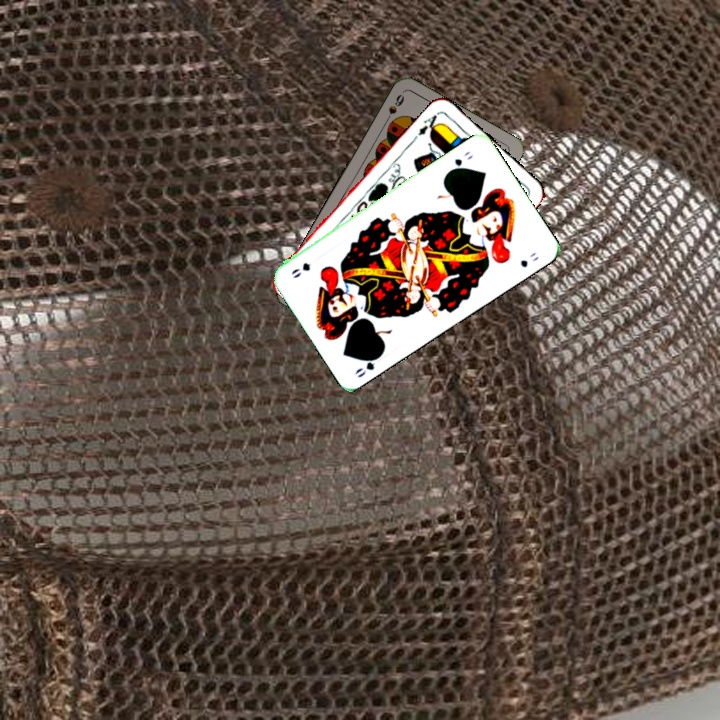EA: (414, 109, 443, 138)
GO: (351, 349, 385, 380), (444, 147, 476, 175)
S9: (380, 90, 407, 127)
